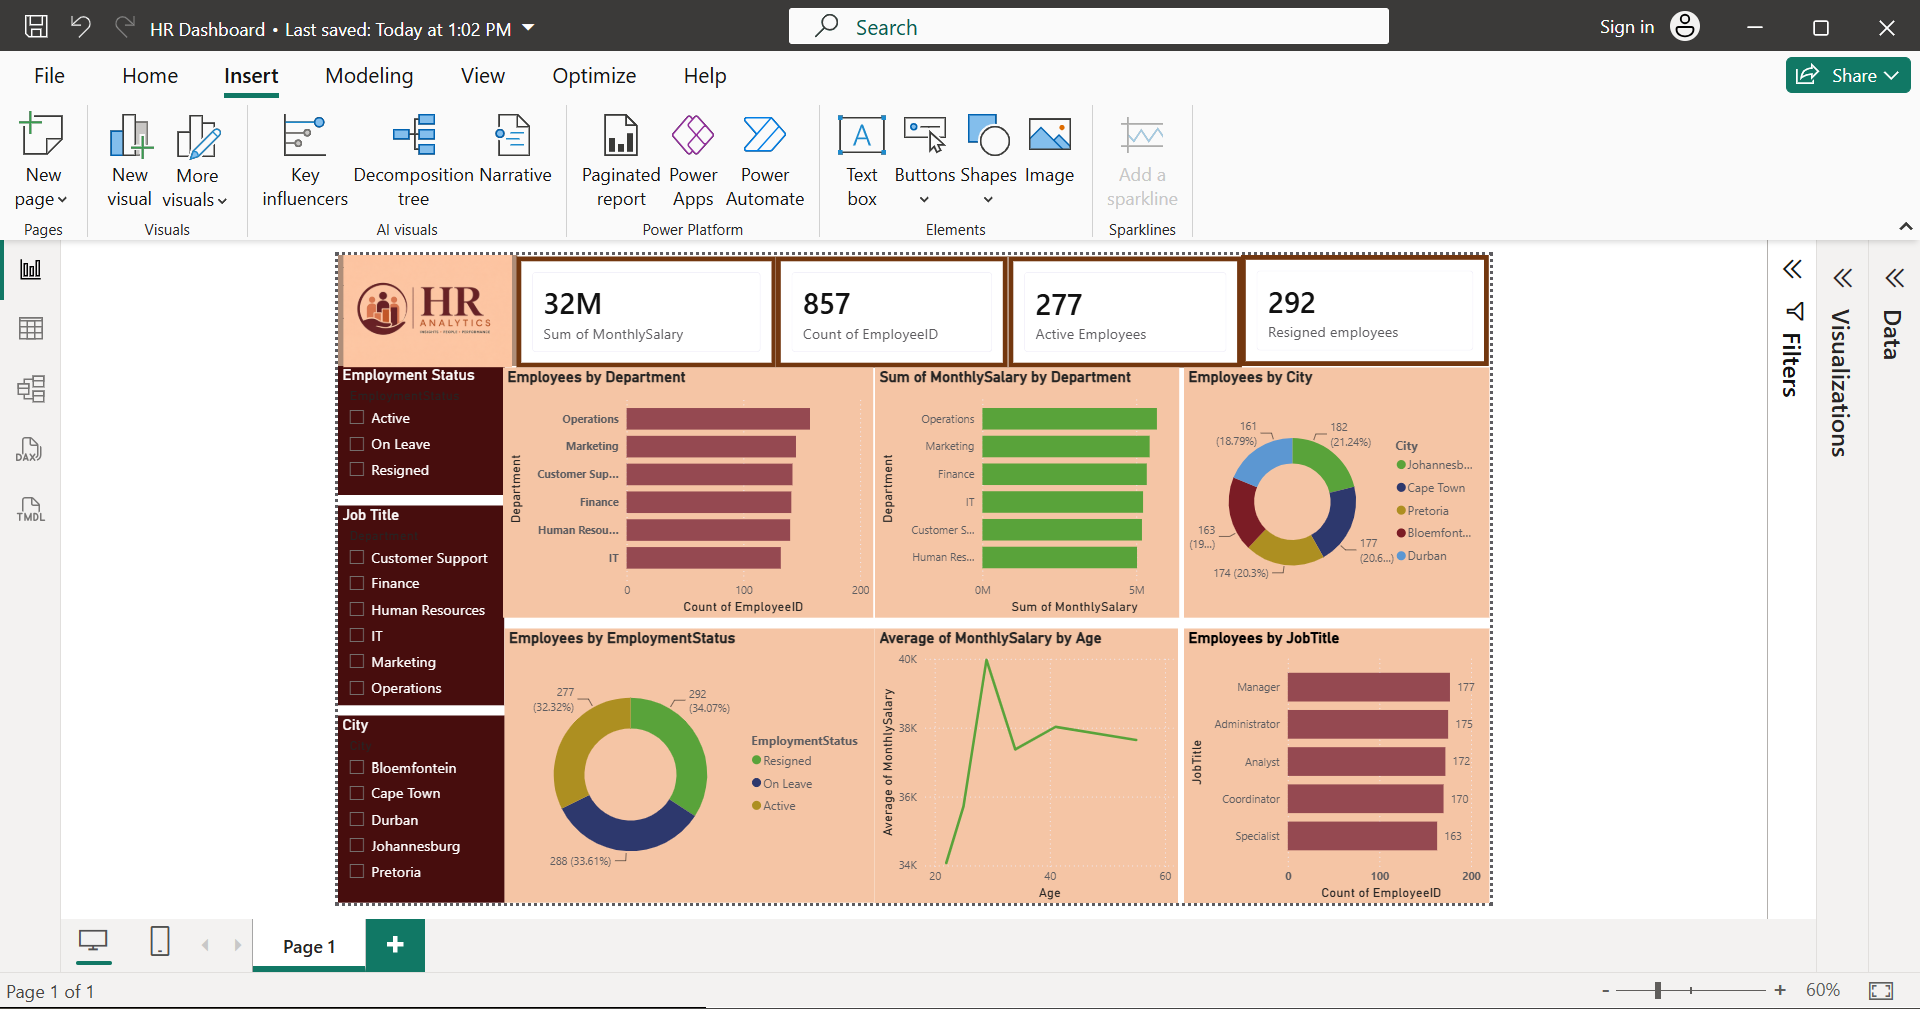

The dashboard page shown, as its layout file describes it:
{"tool":"powerbi","page":{"name":"Page 1","canvas":[1280,720],"ordinal":0},"visuals":[{"type":"slicer","title":"Employment Status","fields":{"Values":["hr_employees.EmploymentStatus"]},"box":[0,122.8,185.2,143.6],"z":0},{"type":"slicer","title":"Job Title","fields":{"Values":["hr_employees.Department"]},"box":[0,278.5,184.6,221.8],"z":1000},{"type":"slicer","title":"City","fields":{"Values":["hr_employees.City"]},"box":[0,512.1,185.2,207.9],"z":2000},{"type":"textbox","box":[0,0,199.2,123.1],"z":3000},{"type":"cardVisual","fields":{"Data":["Sum(hr_employees.MonthlySalary)"]},"box":[199.2,1.6,288.2,123.1],"z":4000},{"type":"cardVisual","fields":{"Data":["CountNonNull(hr_employees.EmployeeID)"]},"box":[487.4,1.6,257.5,123.1],"z":5000},{"type":"cardVisual","fields":{"Data":["hr_employees.Active Employees"]},"box":[744.8,1.6,259.1,123.1],"z":6000},{"type":"cardVisual","fields":{"Data":["hr_employees.Resigned ployees"]},"box":[1003.9,0,275.3,123.1],"z":7000},{"type":"clusteredBarChart","title":" Employees by Department","fields":{"Category":["hr_employees.Department"],"Y":["CountNonNull(hr_employees.EmployeeID)"]},"box":[184.1,124.6,411.6,278.3],"z":8000},{"type":"donutChart","title":" Employees by City","fields":{"Category":["hr_employees.City"],"Y":["CountNonNull(hr_employees.EmployeeID)"]},"box":[940.6,124.6,339.1,278.3],"z":9000},{"type":"clusteredBarChart","fields":{"Y":["Sum(hr_employees.MonthlySalary)"],"Category":["hr_employees.Department"]},"box":[597.2,124.7,338.3,277.8],"z":10000},{"type":"donutChart","title":" Employees by EmploymentStatus","fields":{"Category":["hr_employees.EmploymentStatus"],"Y":["CountNonNull(hr_employees.EmployeeID)"]},"box":[184.6,414.5,411.3,304.4],"z":11000},{"type":"clusteredBarChart","title":" Employees by JobTitle","fields":{"Category":["hr_employees.JobTitle"],"Y":["CountNonNull(hr_employees.EmployeeID)"]},"box":[940.6,414.5,339.1,305.8],"z":12000},{"type":"lineChart","fields":{"Y":["Avg(hr_employees.MonthlySalary)"],"Category":["hr_employees.Age"]},"box":[597.5,414.5,336.8,306],"z":13000},{"type":"image","box":[0,0,199.2,124.7],"z":14000}]}

Visuals, with their boxes on the page's 1280x720 design canvas (x1, y1, x2, y2). These are canvas units, not pixel positions in the 1920x1009 screenshot, which may show the page scaled, cropped or inside an application window:
"Employment Status" slicer: [left=0, top=123, right=185, bottom=266]
"Job Title" slicer: [left=0, top=278, right=185, bottom=500]
"City" slicer: [left=0, top=512, right=185, bottom=720]
textbox: [left=0, top=0, right=199, bottom=123]
cardVisual - Sum(hr_employees.MonthlySalary): [left=199, top=2, right=487, bottom=125]
cardVisual - CountNonNull(hr_employees.EmployeeID): [left=487, top=2, right=745, bottom=125]
cardVisual - hr_employees.Active Employees: [left=745, top=2, right=1004, bottom=125]
cardVisual - hr_employees.Resigned ployees: [left=1004, top=0, right=1279, bottom=123]
" Employees by Department" clusteredBarChart: [left=184, top=125, right=596, bottom=403]
" Employees by City" donutChart: [left=941, top=125, right=1280, bottom=403]
clusteredBarChart - Sum(hr_employees.MonthlySalary) x hr_employees.Department: [left=597, top=125, right=936, bottom=402]
" Employees by EmploymentStatus" donutChart: [left=185, top=414, right=596, bottom=719]
" Employees by JobTitle" clusteredBarChart: [left=941, top=414, right=1280, bottom=720]
lineChart - Avg(hr_employees.MonthlySalary) x hr_employees.Age: [left=598, top=414, right=934, bottom=720]
image: [left=0, top=0, right=199, bottom=125]
